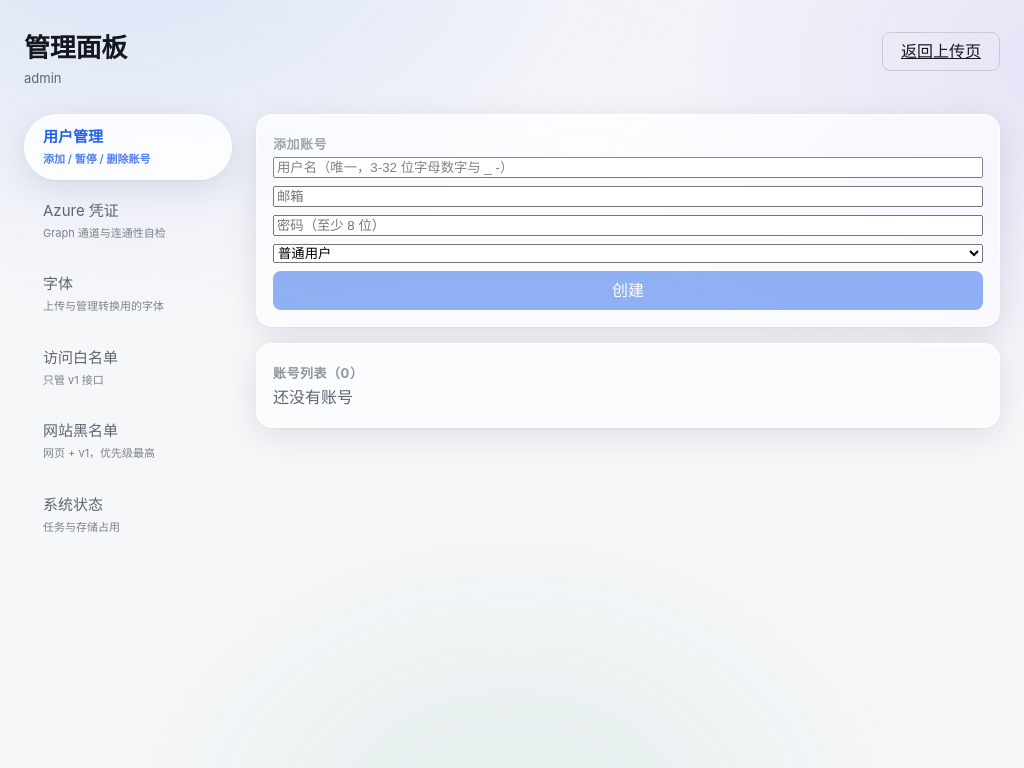
AdminPage 的侧边栏 › 点侧边栏切换分区
This screenshot has width=1024, height=768.
Expected: the heading "管理面板" is shown, [24,32,127,64]
Click the button "访问白名单 只管 v1 接口" at (128,368), box [24,335,232,400]
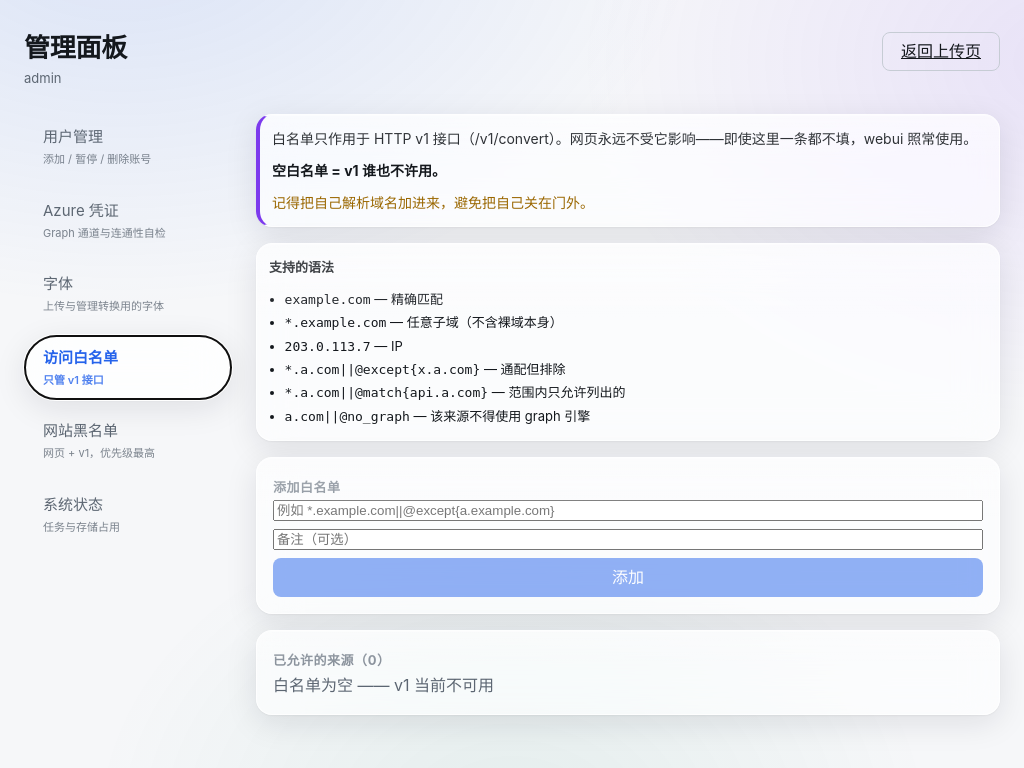
Result: the text "只作用于 HTTP v1 接口" is shown at [272,130,977,147]
